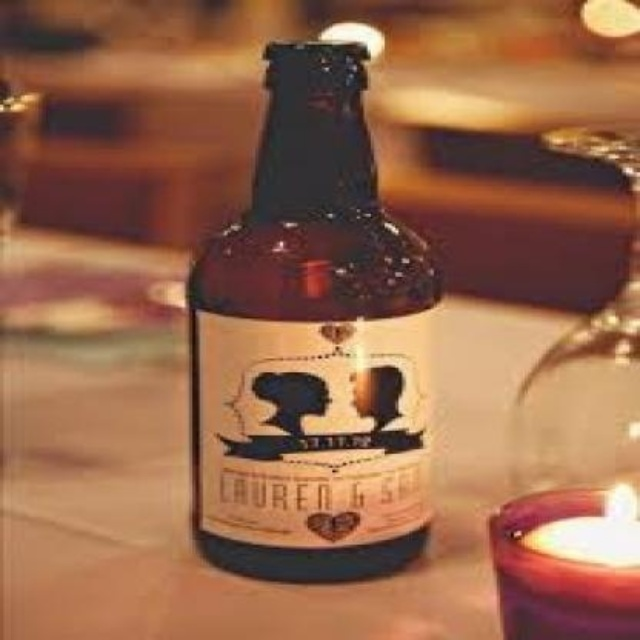trash: (191, 42, 440, 580)
